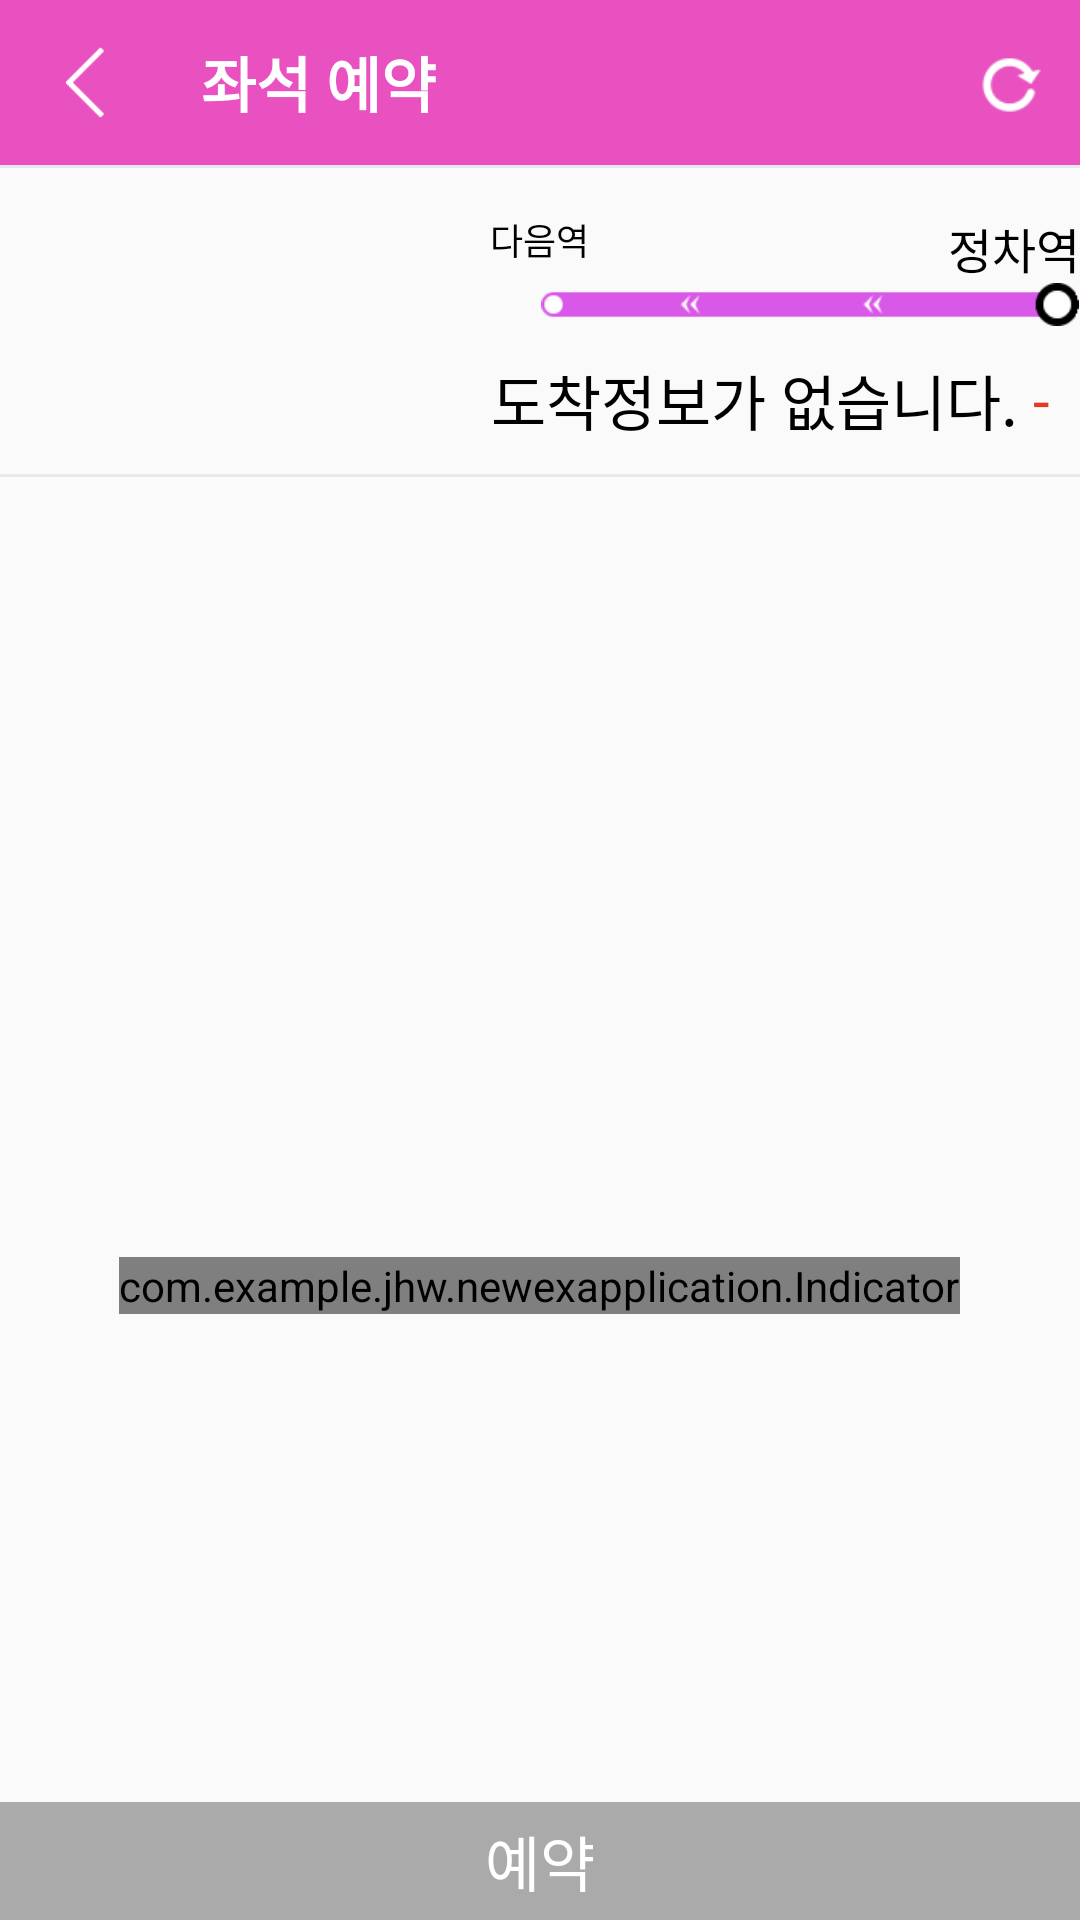

Icons on this 1080px x 1920px Android screen, each with the point to tap as point (x, y):
back sub: point (85, 82)
refresh: point (1011, 85)
